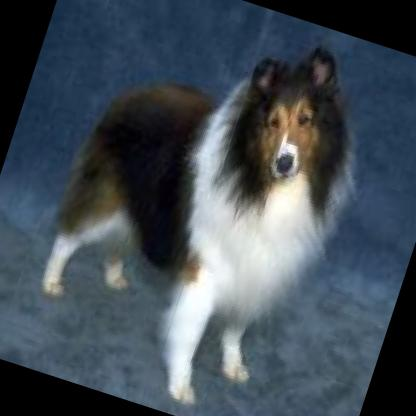Shetland_sheepdog: (5, 0, 397, 416)
